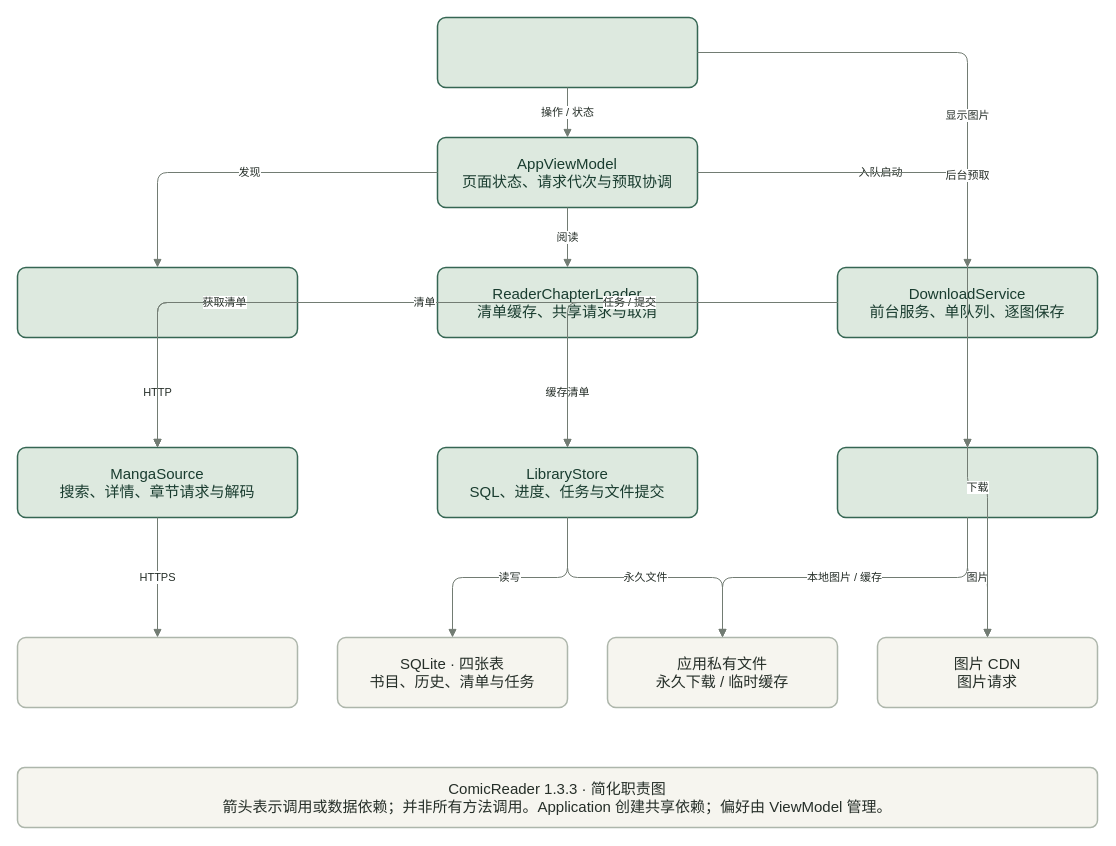
This 1116x846 diagram has some shape labels left out. Here are the shapes that lost their labels. From the top down, the centre of each, then its label:
At point (567, 52): "MainActivity / Compose UI 页面、手势与窗口适配".
At point (157, 302): "DiscoverState / DiscoverSource 首页、分类与分页".
At point (967, 482): "ReaderImagePreloader / Coil 增量预取、按视口解码".
At point (157, 672): "漫画柜移动站 HTML 数据源".
